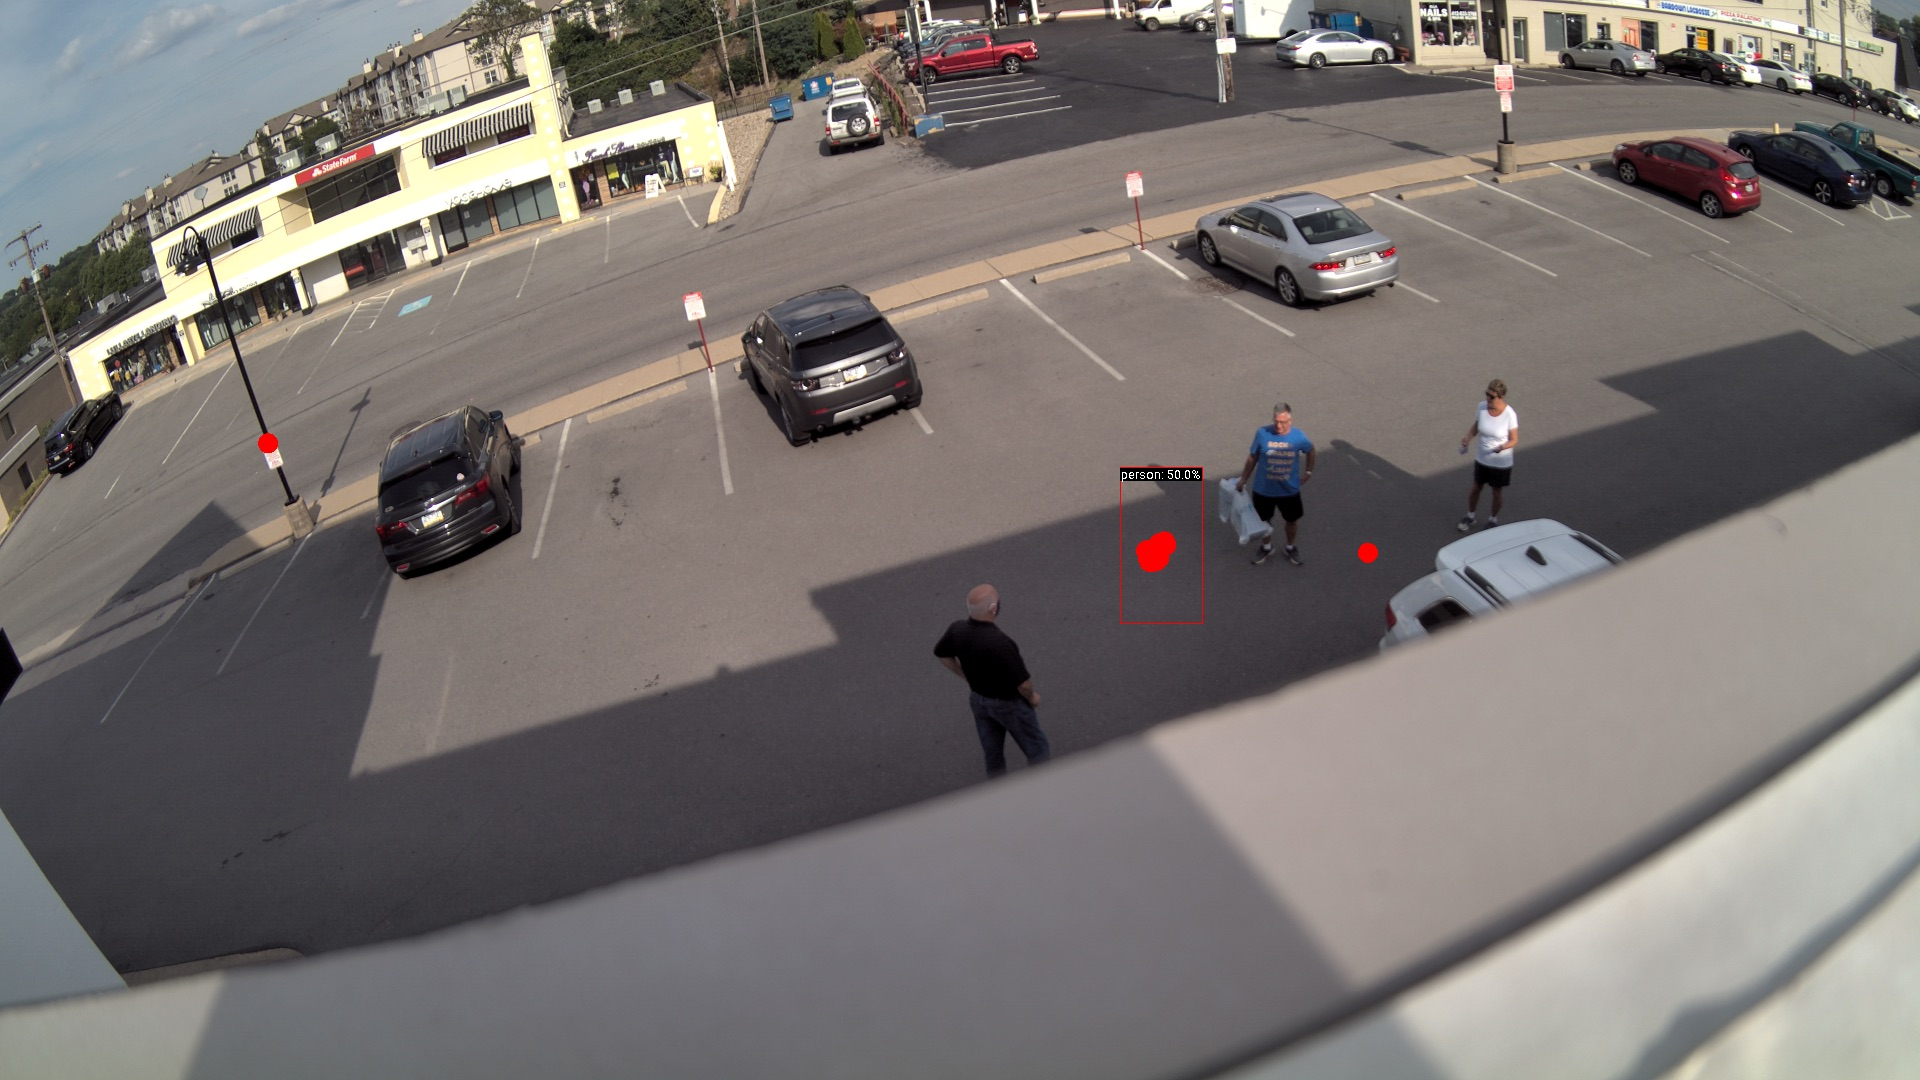person: (934, 587, 1055, 777), (1243, 405, 1314, 566), (1464, 383, 1521, 531)
